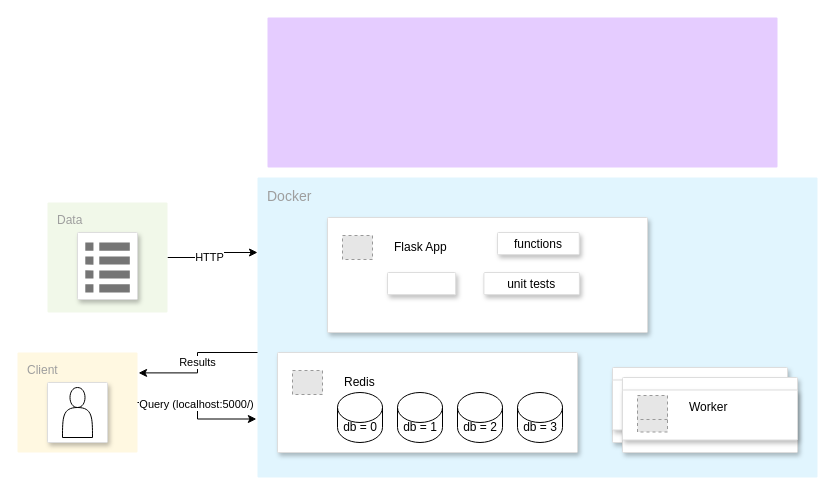
The diagram is 834 pixels wide and 494 high, and some of its shapes have lost their labels. Grey dashed boxes stand in for pictures. The centre of each missing label's shape, as x and y in pixels:
Kubernetes: the point at 522,92
routes: the point at 422,285
